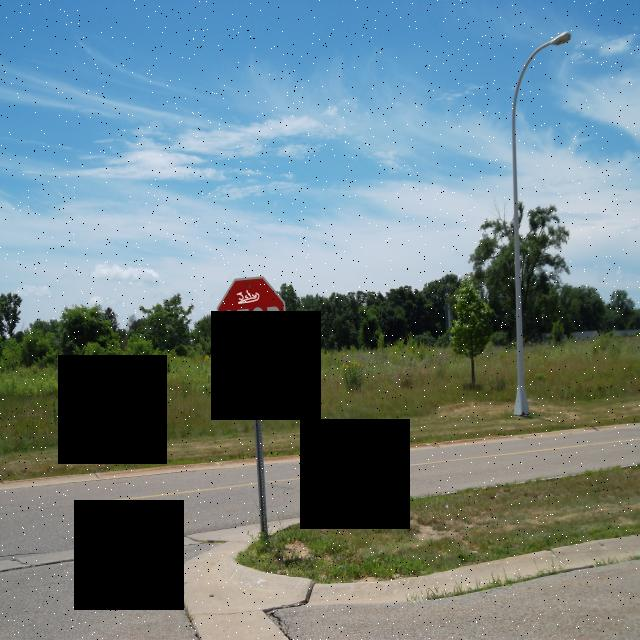stop: (212, 267, 294, 381)
